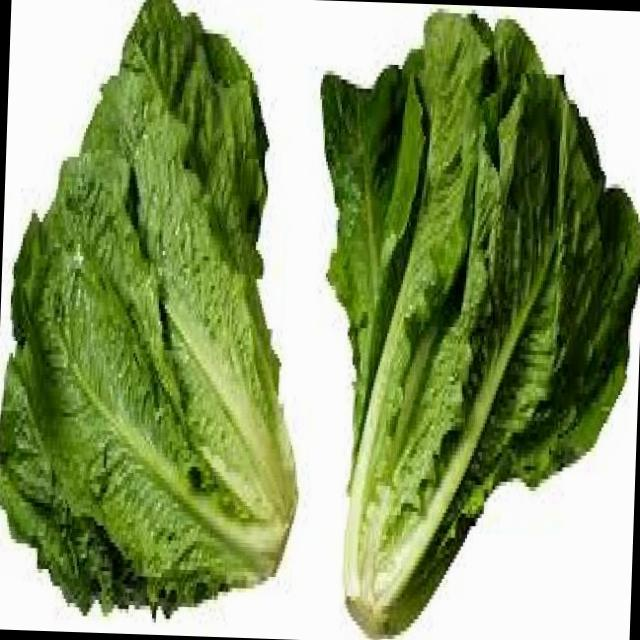Lettuce-Ready-to-Harvest: (323, 13, 639, 632), (0, 0, 295, 611)
